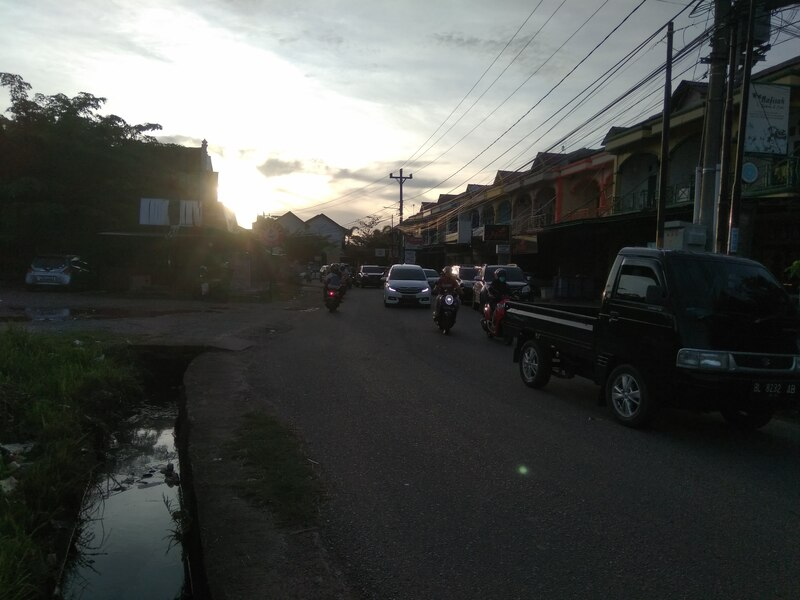car: (501, 238, 798, 439), (473, 261, 536, 316), (380, 261, 433, 313), (356, 262, 385, 288)
motorcycle: (480, 294, 520, 347), (432, 286, 460, 338), (322, 281, 345, 315)
